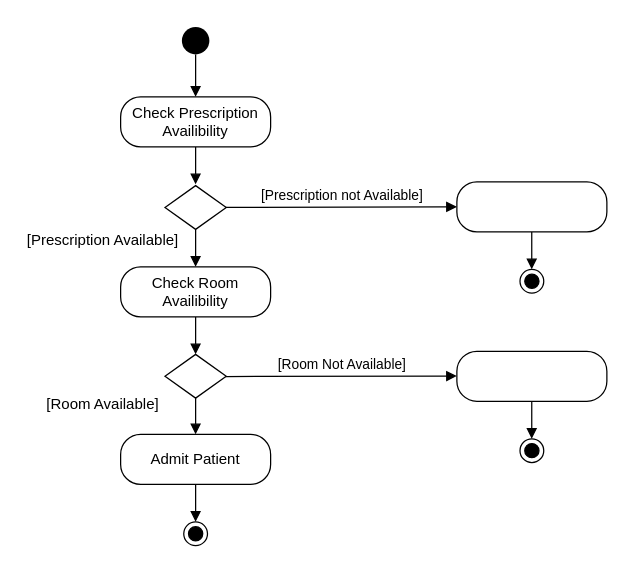
Image size: 629x568. Some labels were removed from this diagram. Here are the shapes that lost their labels. From the top down, the centre of each, then its label:
point 531,206: Admission Not Required
point 531,375: Room Not Available
